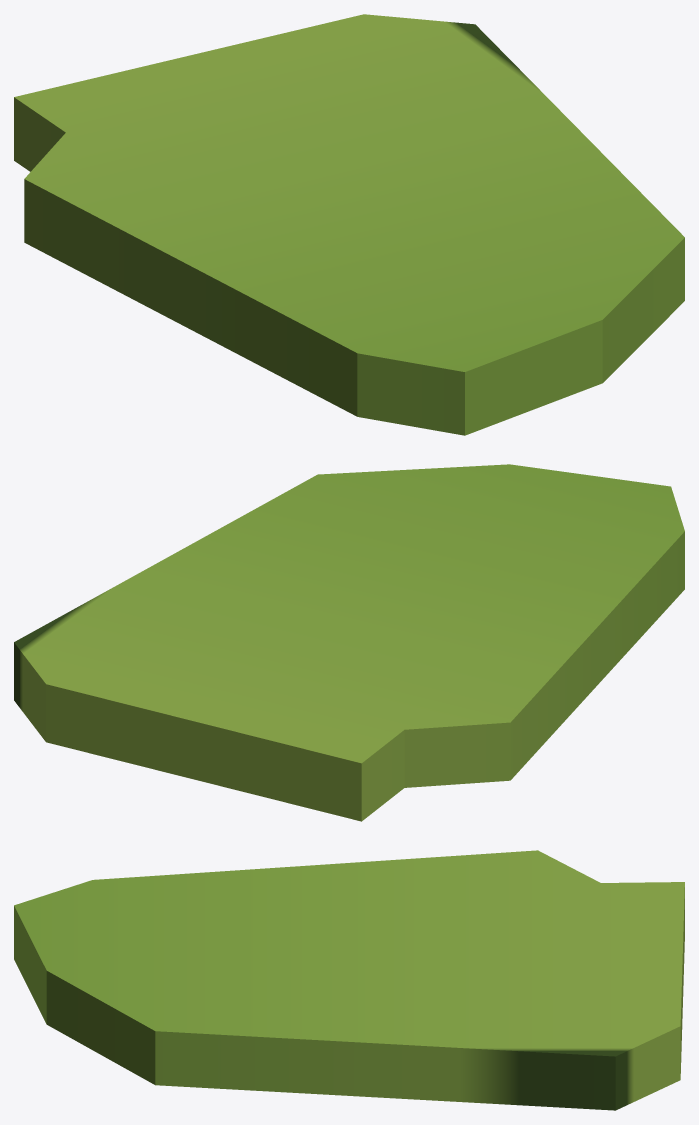
File: Tile_03.fbx
The picture shows the model from 3 angles, top to bottom: view 1: azimuth 30°, elevation 25°; view 2: azimuth 150°, elevation 25°; view 3: azimuth 270°, elevation 25°; orthographic projection. The views are drawn at different scales.
Parts seen in each view (by area): view 1: Tile_03; view 2: Tile_03; view 3: Tile_03.
Boxes of the visible parts, x1,y1,x2,y2 form: Tile_03: (14, 14, 684, 435); Tile_03: (14, 464, 684, 821); Tile_03: (14, 850, 684, 1110).
Bounding box in the file's own units: 0.7515 × 0.0919 × 1.03.
